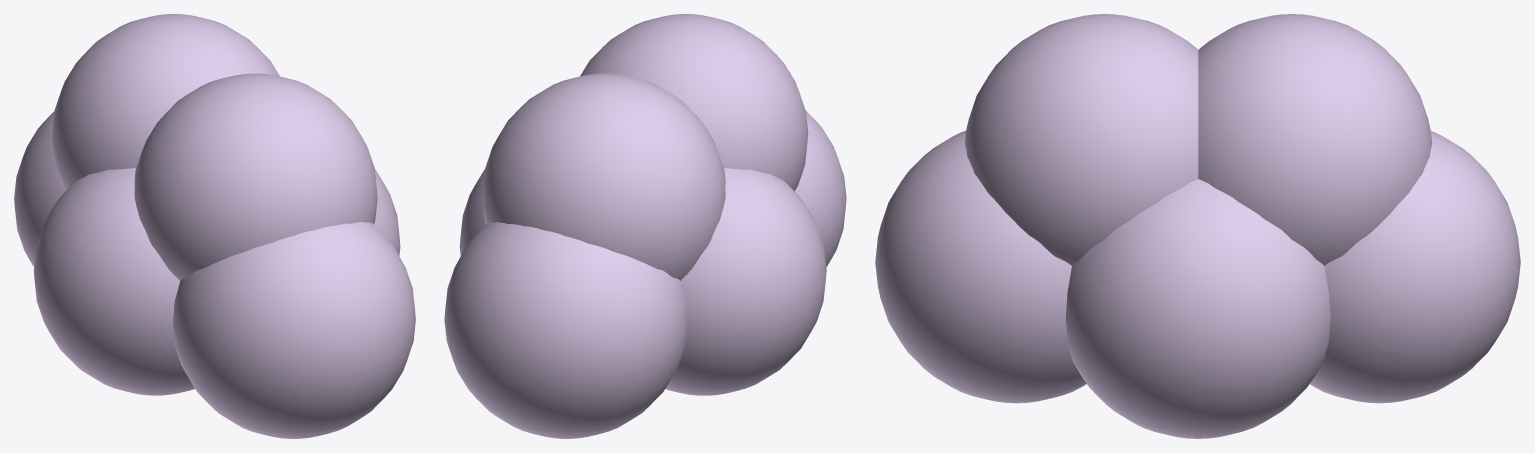
The model's file is Cloud_pink_withcol1.glb.
3 views of the same model, side by side, from view 1: azimuth 30°, elevation 25°; view 2: azimuth 150°, elevation 25°; view 3: azimuth 270°, elevation 25° (orthographic). The views are drawn at different scales.
Visible parts, largest first — view 1: Sphere.001; view 2: Sphere.001; view 3: Sphere.001.
Part boxes in pixels (bbox=[...]): Sphere.001: bbox=[14, 14, 415, 438]; Sphere.001: bbox=[444, 14, 846, 438]; Sphere.001: bbox=[875, 14, 1520, 438].
Size of what is drawn, in the model's own units: 3.15 by 2.84 by 4.57.
